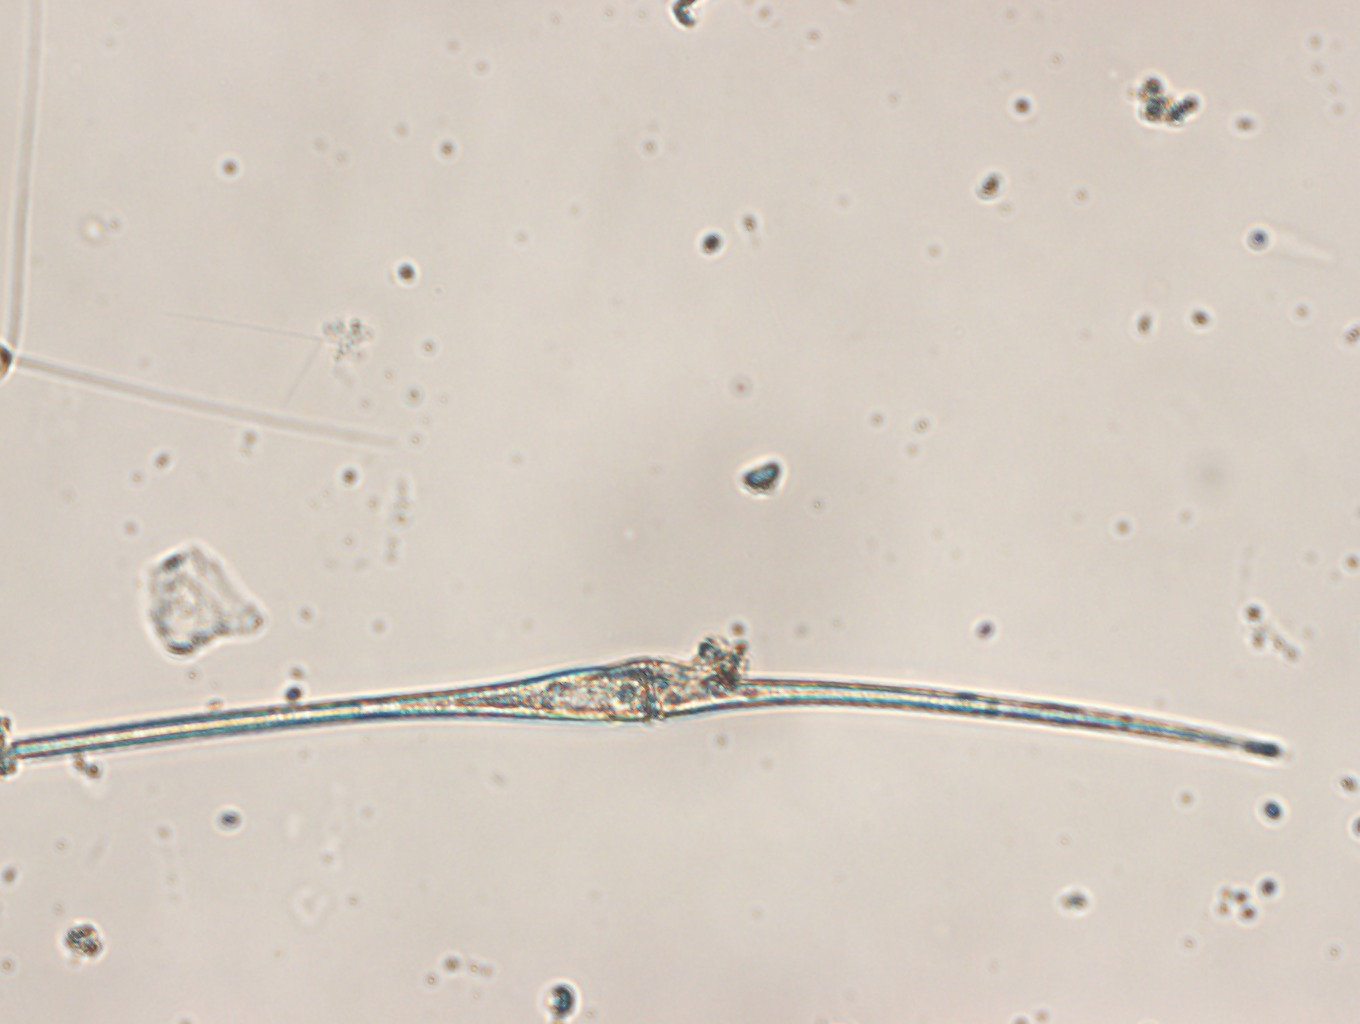ceratium fusus: (1, 656, 1282, 764)
